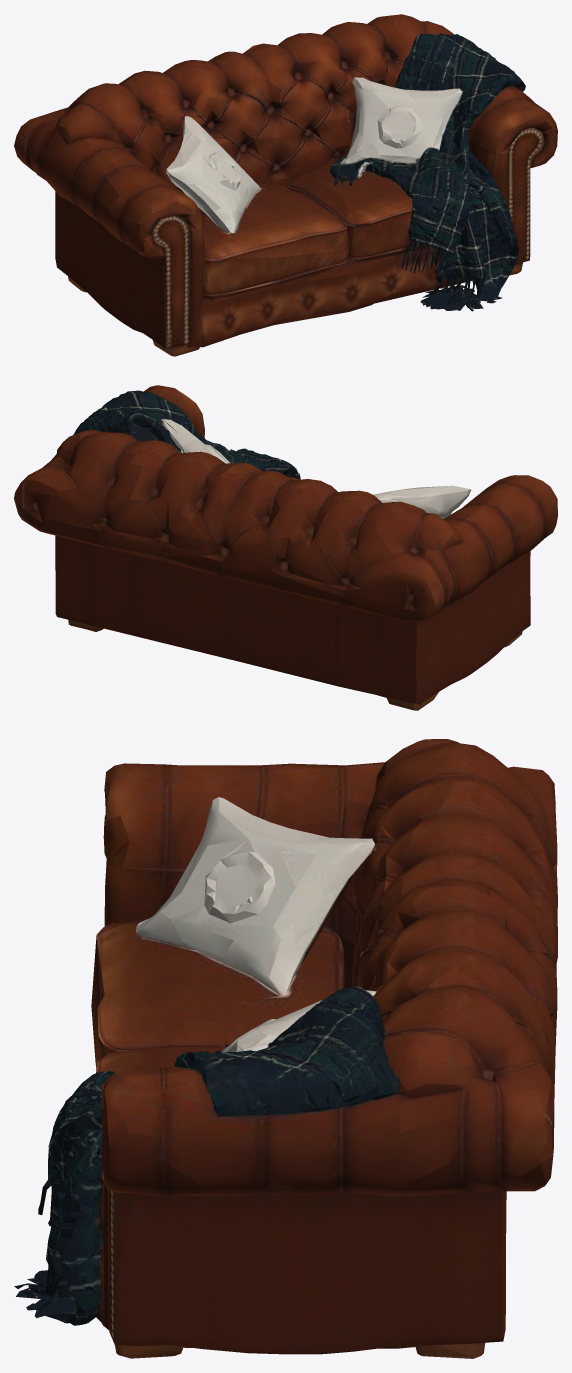
The model's file is couch.glb.
3 views of the same model, one above another, from view 1: azimuth 30°, elevation 25°; view 2: azimuth 150°, elevation 25°; view 3: azimuth 270°, elevation 25° (orthographic). The views are drawn at different scales.
Parts seen in each view (by area): view 1: output_unwrapped; view 2: output_unwrapped; view 3: output_unwrapped.
Part boxes in pixels (x1=…): output_unwrapped: x1=14, y1=14, x2=557, y2=356; output_unwrapped: x1=14, y1=385, x2=557, y2=710; output_unwrapped: x1=14, y1=739, x2=557, y2=1358.
Size of the model in its own units: 1.9 by 0.8351 by 1.2.
1 material, 1 textured.
